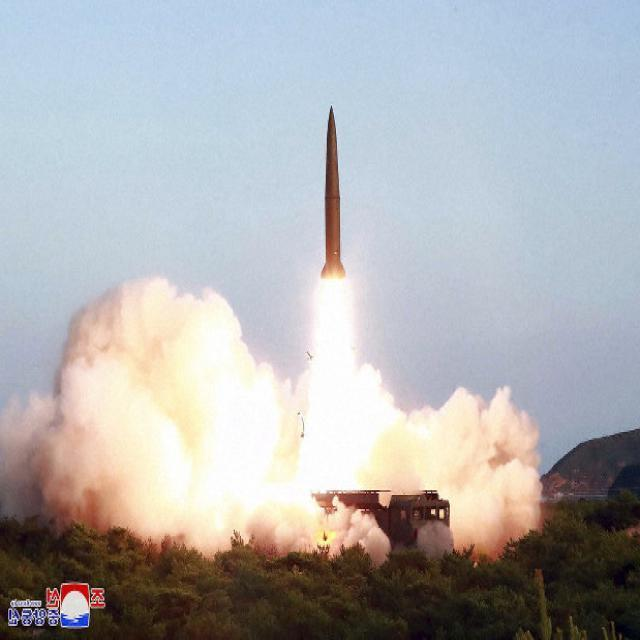Missile: (315, 105, 351, 284)
